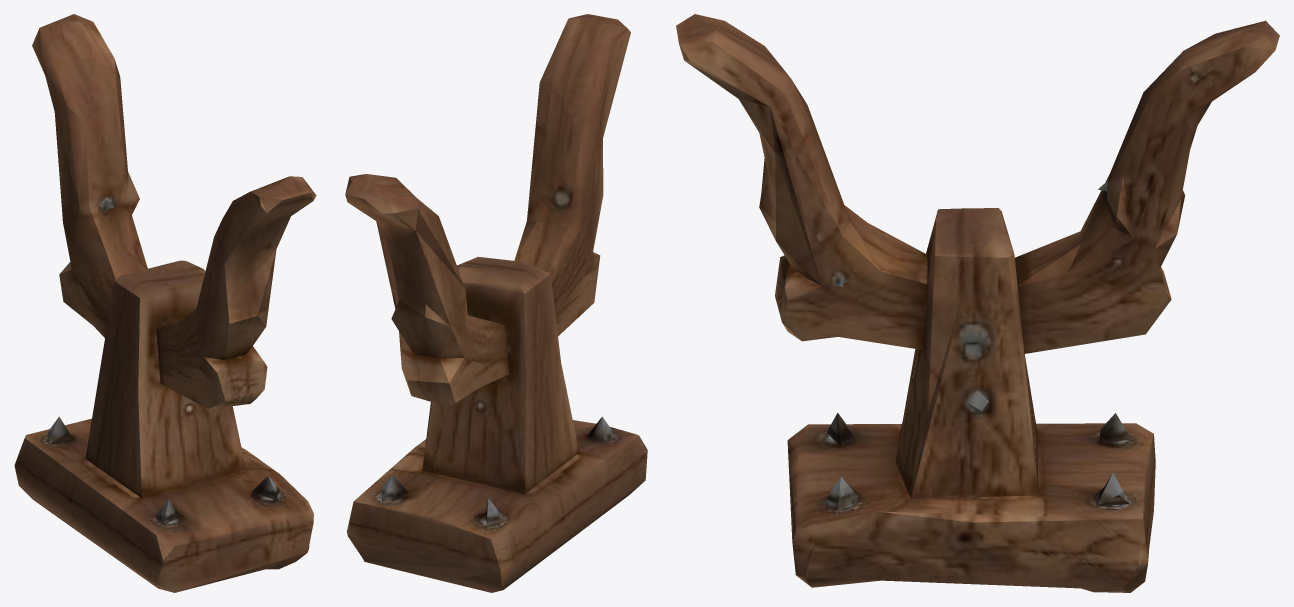
File: cleat.glb
The picture shows the model from 3 angles, left to right: view 1: azimuth 30°, elevation 25°; view 2: azimuth 150°, elevation 25°; view 3: azimuth 270°, elevation 25°; orthographic projection. The views are drawn at different scales.
Parts seen in each view (by area): view 1: tripo_node_0e7a18c7-bc17-457a-ac6b-ef47913406f3.001; view 2: tripo_node_0e7a18c7-bc17-457a-ac6b-ef47913406f3.001; view 3: tripo_node_0e7a18c7-bc17-457a-ac6b-ef47913406f3.001.
Boxes of the visible parts, box(x1,y1,x2,y2) form: tripo_node_0e7a18c7-bc17-457a-ac6b-ef47913406f3.001: box(14, 14, 316, 592); tripo_node_0e7a18c7-bc17-457a-ac6b-ef47913406f3.001: box(345, 14, 647, 592); tripo_node_0e7a18c7-bc17-457a-ac6b-ef47913406f3.001: box(676, 14, 1279, 592).
Bounding box in the file's own units: 0.3945 × 0.979 × 0.9995.
Materials: 1 (1 with a texture image).
